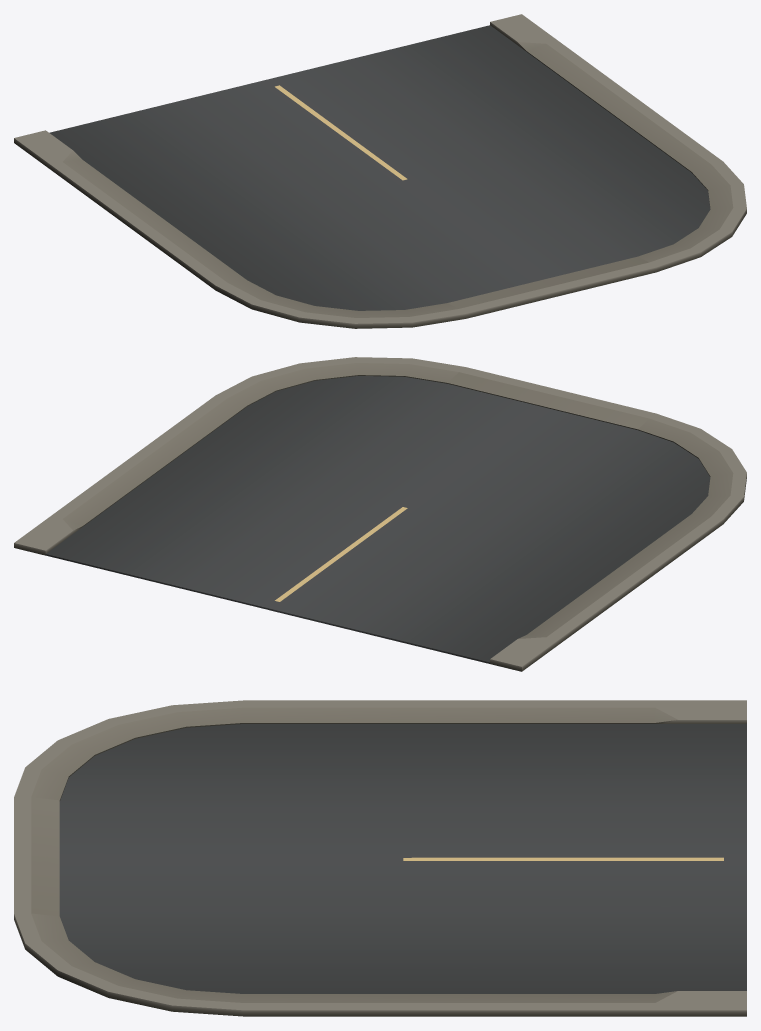
File: Runway_Addon_1E.fbx
3 views of the same model, one above another, from view 1: azimuth 30°, elevation 25°; view 2: azimuth 150°, elevation 25°; view 3: azimuth 270°, elevation 25° (orthographic). The views are drawn at different scales.
Parts seen in each view (by area): view 1: Runway_Addon_1E; view 2: Runway_Addon_1E; view 3: Runway_Addon_1E.
Part boxes in pixels (x1,y1,x2,y2): Runway_Addon_1E: (14,14,746,328); Runway_Addon_1E: (14,357,746,671); Runway_Addon_1E: (14,700,746,1016).
Size of the model in its own units: 3200 by 30 by 3200.
